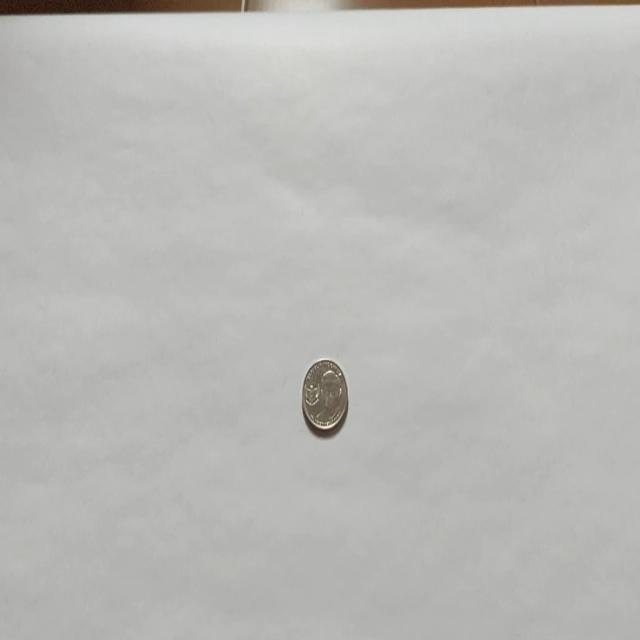seribu rupiah koin: (301, 356, 348, 433)
